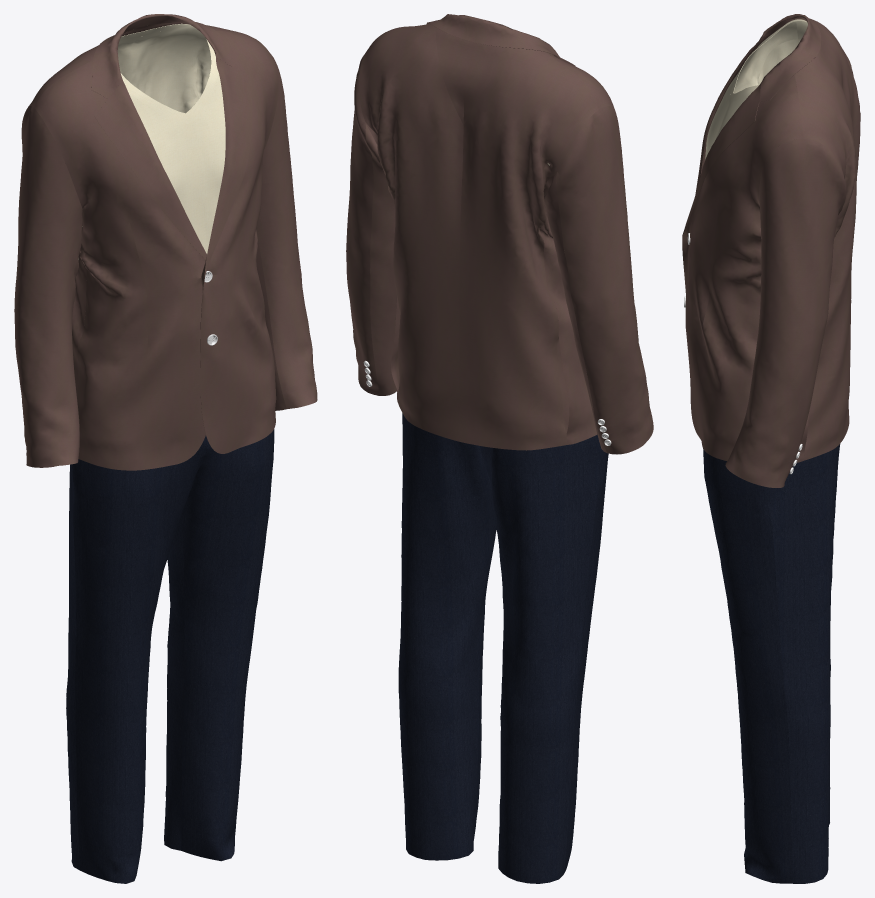
The picture shows the model from 3 angles, left to right: view 1: azimuth 30°, elevation 25°; view 2: azimuth 150°, elevation 25°; view 3: azimuth 270°, elevation 25°; orthographic projection. The views are drawn at different scales.
Parts seen in each view (by area): view 1: Body_Front (×2), Pattern_3489167, Body_Back, Collar, Ribbing_1; view 2: Body_Front, Pattern_3489167, Collar; view 3: Body_Front (×2), Pattern_3489167, Collar, Ribbing_1.
Boxes of the visible parts, box(x1,y1,x2,y2) form: Body_Front (×2): box(14, 22, 317, 470); Pattern_3489167: box(66, 429, 274, 883); Body_Back: box(78, 25, 210, 259); Collar: box(91, 14, 239, 98); Ribbing_1: box(119, 23, 218, 124); Body_Front: box(346, 24, 653, 454); Pattern_3489167: box(398, 413, 608, 883); Collar: box(426, 14, 575, 66); Body_Front (×2): box(682, 18, 860, 487); Pattern_3489167: box(703, 444, 840, 883); Collar: box(759, 14, 820, 102); Ribbing_1: box(728, 20, 806, 102).
Size of the model in its own units: 55.94 by 158 by 30.93.
Materials: 10 (9 with a texture image).
